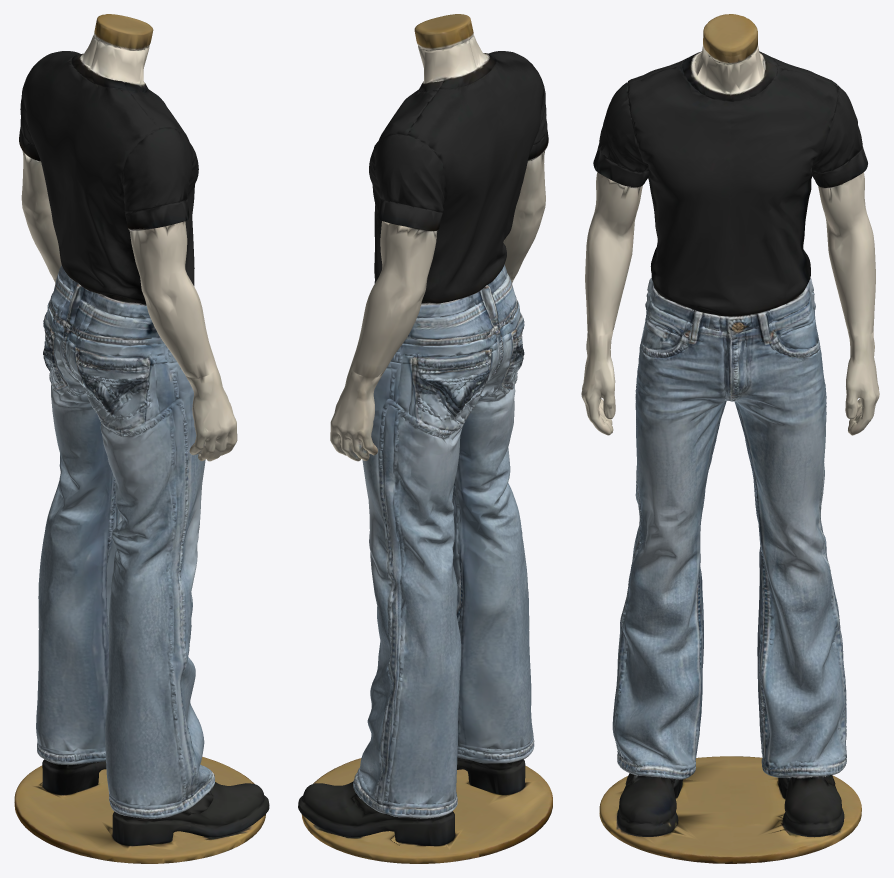
File: bc_ice.glb
3 views of the same model, side by side, from view 1: azimuth 30°, elevation 25°; view 2: azimuth 150°, elevation 25°; view 3: azimuth 270°, elevation 25° (orthographic).
Parts seen in each view (by area): view 1: tripo_node_f60a39d8-bf29-474a-9a13-bab074841032; view 2: tripo_node_f60a39d8-bf29-474a-9a13-bab074841032; view 3: tripo_node_f60a39d8-bf29-474a-9a13-bab074841032.
Part boxes in pixels (box(x1,y1,x2,y2)): tripo_node_f60a39d8-bf29-474a-9a13-bab074841032: box(14, 14, 269, 863); tripo_node_f60a39d8-bf29-474a-9a13-bab074841032: box(298, 14, 552, 863); tripo_node_f60a39d8-bf29-474a-9a13-bab074841032: box(581, 14, 879, 863).
Size of the model in its own units: 0.2745 by 0.9796 by 0.3388.
Materials: 1 (1 with a texture image).
